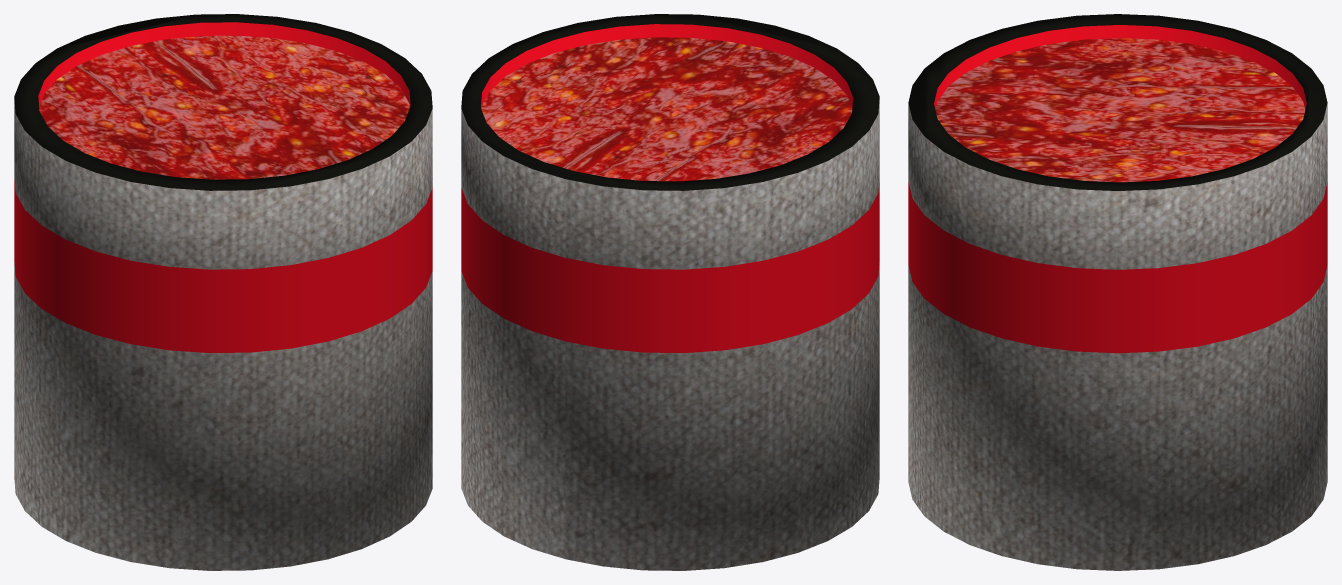
The model's file is tomatensausbak_test.glb.
3 views of the same model, side by side, from view 1: azimuth 30°, elevation 25°; view 2: azimuth 150°, elevation 25°; view 3: azimuth 270°, elevation 25° (orthographic).
Parts seen in each view (by area): view 1: Cylinder, Cylinder.001; view 2: Cylinder, Cylinder.001; view 3: Cylinder, Cylinder.001.
Part boxes in pixels (x1=…): Cylinder: x1=14, y1=14, x2=432, y2=570; Cylinder.001: x1=39, y1=35, x2=409, y2=179; Cylinder: x1=461, y1=14, x2=879, y2=570; Cylinder.001: x1=481, y1=37, x2=852, y2=181; Cylinder: x1=908, y1=14, x2=1327, y2=570; Cylinder.001: x1=935, y1=38, x2=1305, y2=182.
Bounding box in the file's own units: 2.74 × 2.74 × 2.74.
5 materials, 2 textured.
